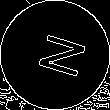N_W: (25, 29, 85, 81)
